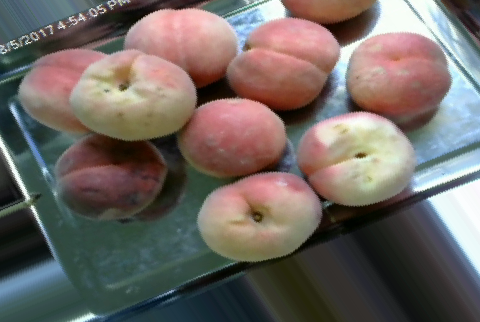Peach: (66, 50, 199, 141), (198, 170, 321, 262), (298, 112, 414, 205), (229, 15, 339, 111), (342, 32, 452, 123), (56, 135, 170, 217), (177, 96, 285, 177), (128, 6, 234, 85), (19, 49, 109, 134)
